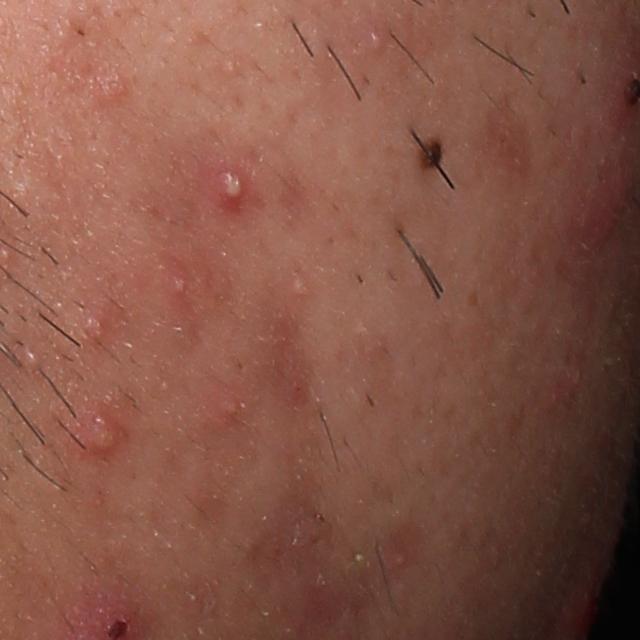comedo: (100, 75, 129, 99), (19, 346, 43, 374)
nevus: (417, 134, 448, 174)
papule: (578, 171, 634, 253), (203, 386, 243, 422)
pustule: (76, 409, 126, 458), (213, 166, 251, 211)
